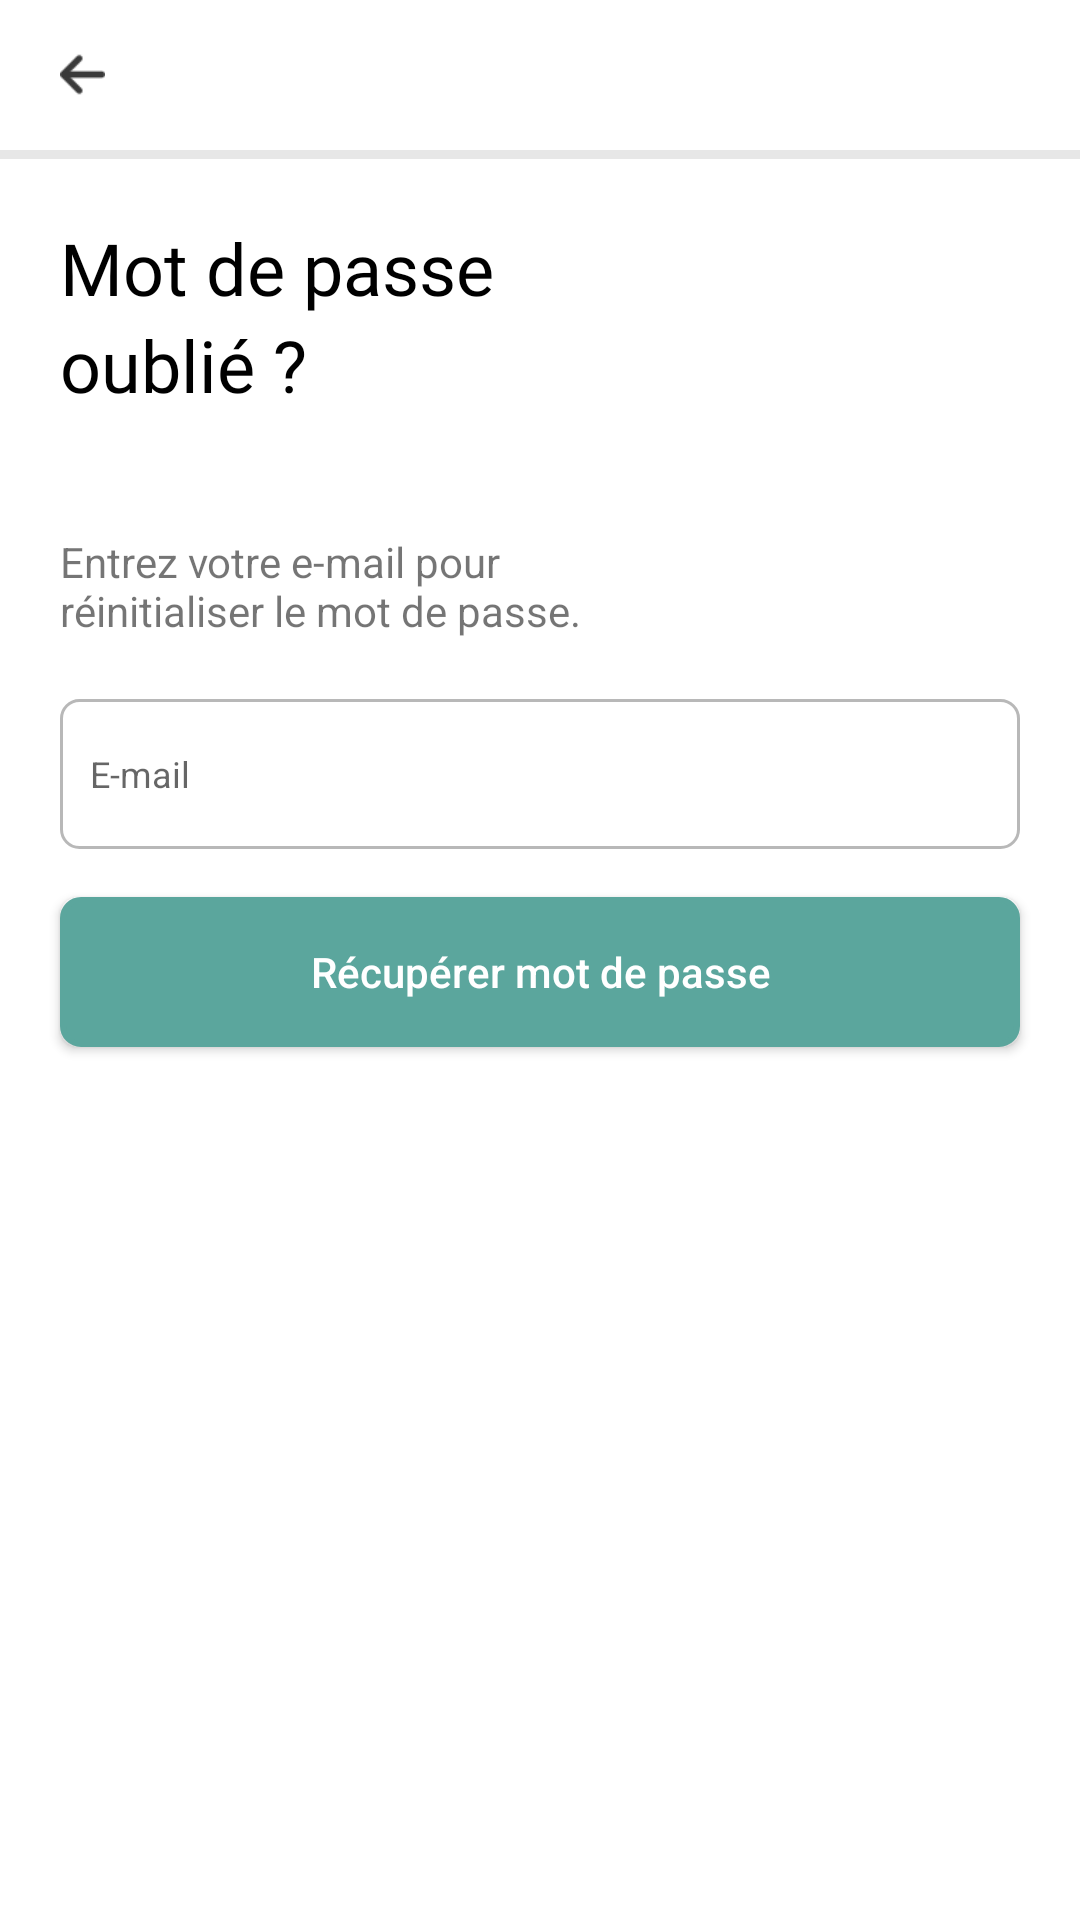

Where to tap for icons on this 1080 × 1920 app screen, as (x=x, y=y):
arrow: (x=82, y=74)
